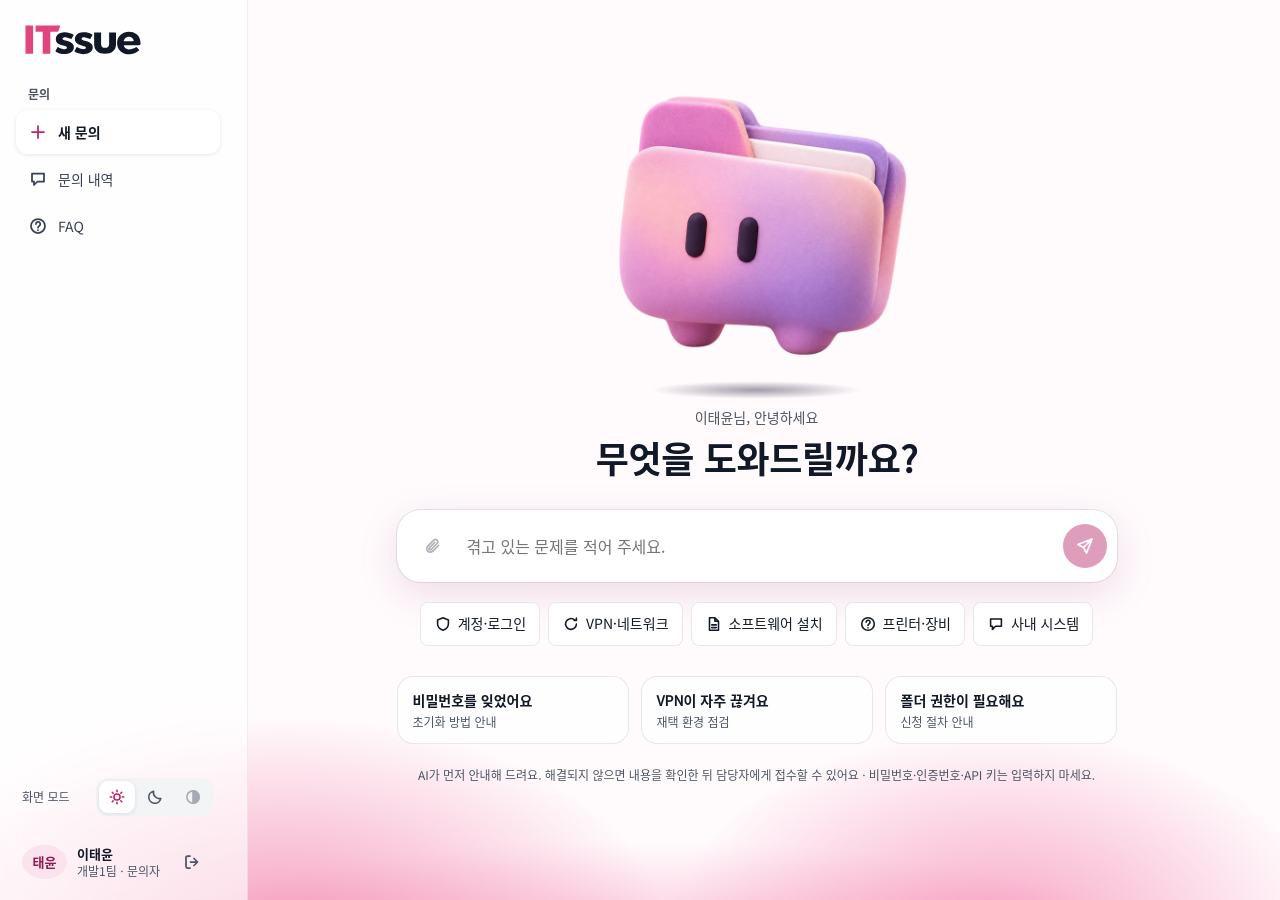
Scenario: 사이드바 › 로그아웃하면 로그인 화면으로 돌아간다
The image size is (1280, 900).
Click the button named "로그아웃". click: (192, 862)
box: [170,840,214,884]
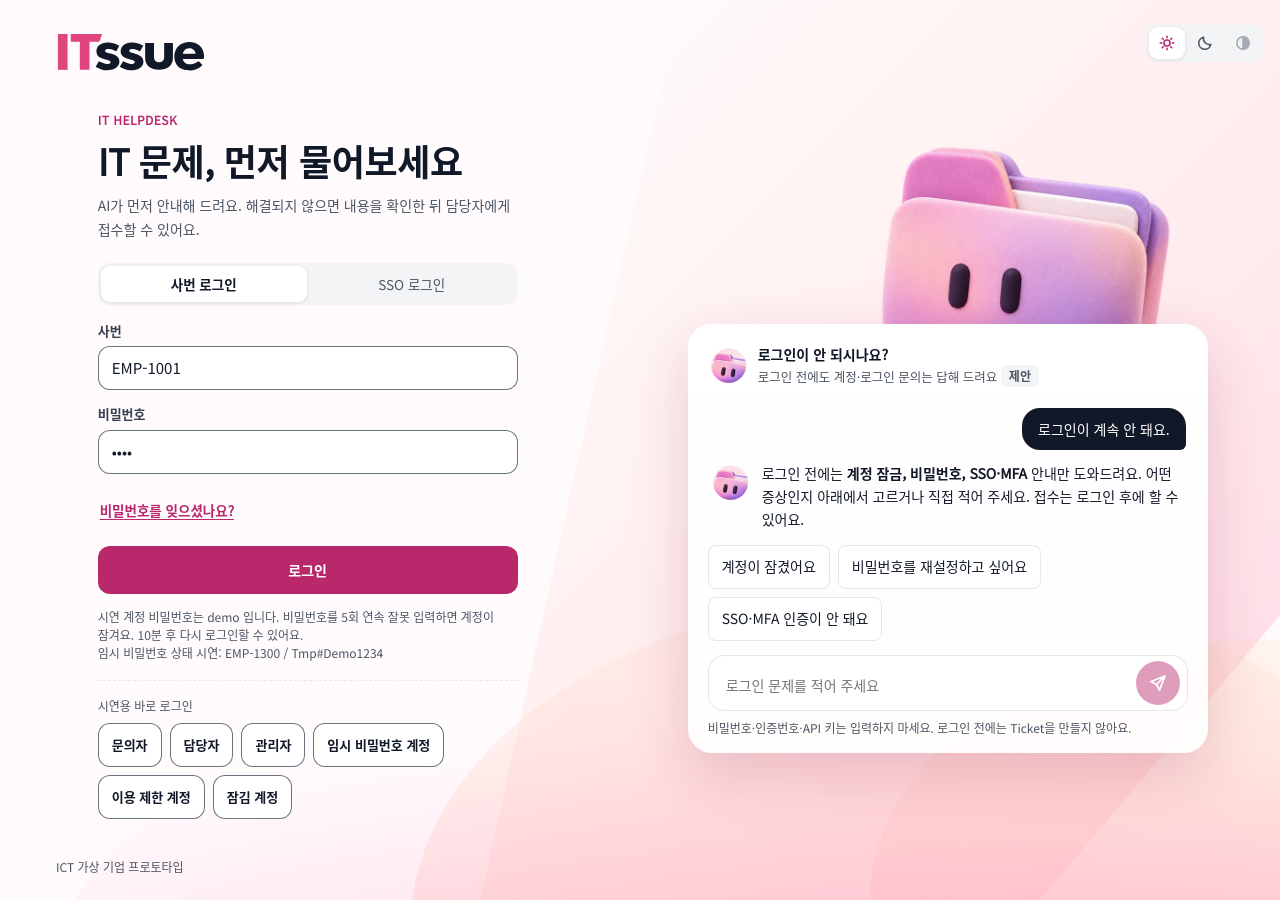
Expected: the heading "IT 문제, 먼저 물어보세요" is shown, [98,137,518,183]
